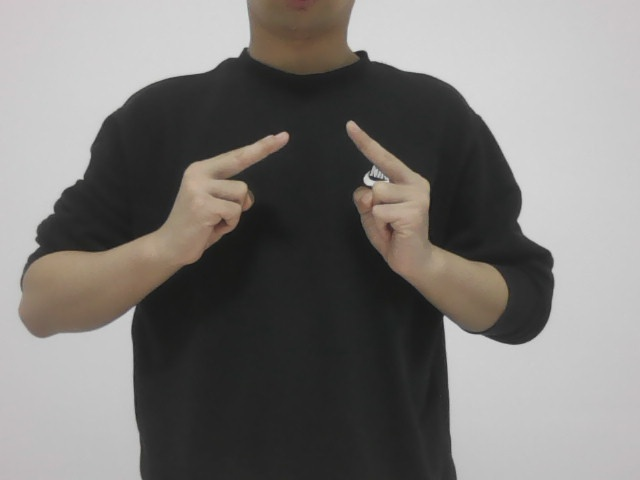know: (153, 112, 438, 285)
